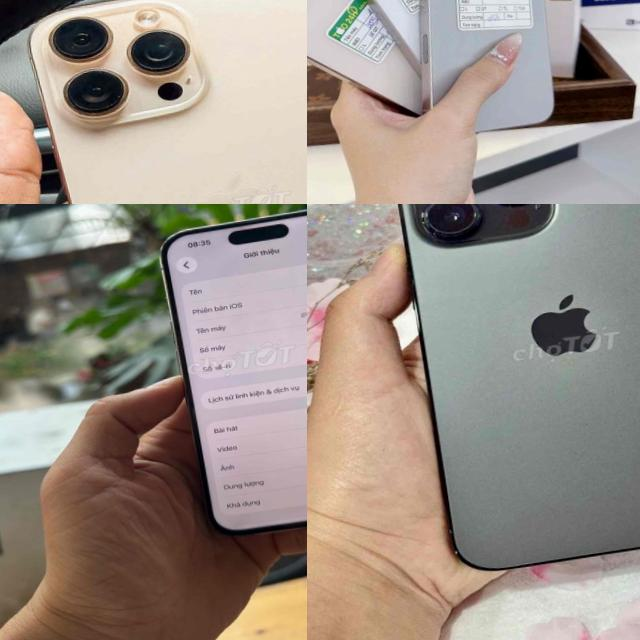gen_14: (373, 204, 640, 586)
gen_15: (131, 204, 307, 571)
gen_16: (30, 0, 307, 204), (396, 0, 569, 138)
